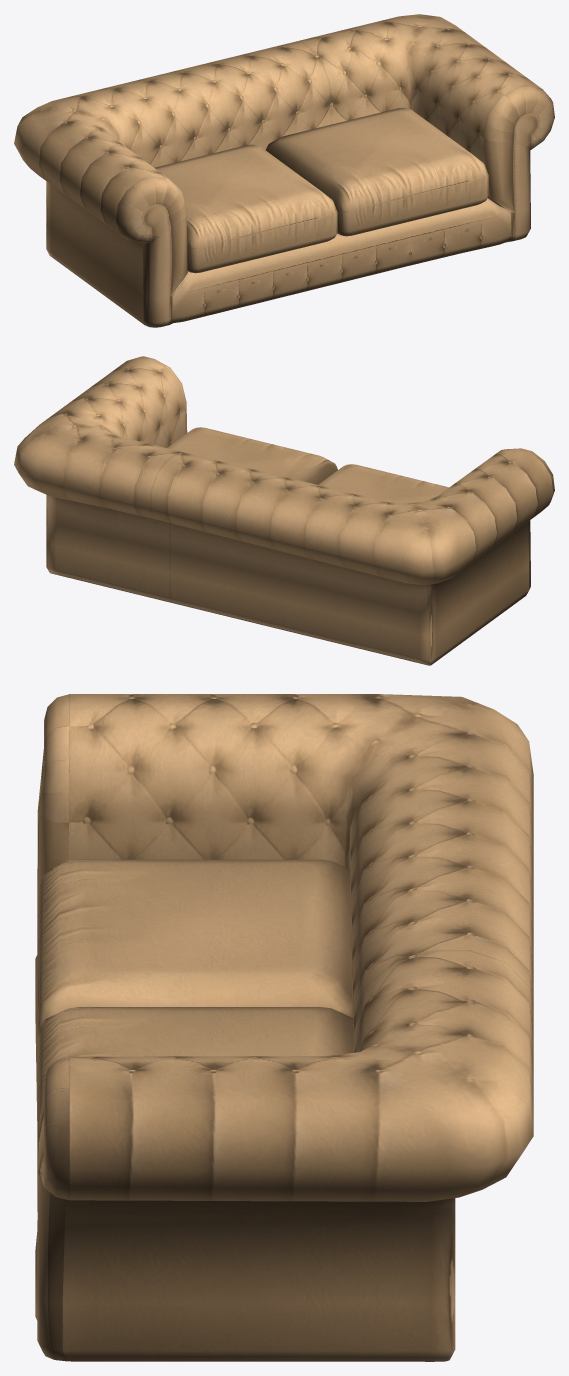
Rendered from Two_Seater_Sofa_03.fbx.
3 views of the same model, one above another, from view 1: azimuth 30°, elevation 25°; view 2: azimuth 150°, elevation 25°; view 3: azimuth 270°, elevation 25° (orthographic). The views are drawn at different scales.
Visible parts, largest first — view 1: Sofa.004; view 2: Sofa.004; view 3: Sofa.004.
Part boxes in pixels (x1,y1,x2,y2): Sofa.004: [14, 14, 554, 327]; Sofa.004: [14, 356, 554, 665]; Sofa.004: [35, 694, 533, 1361].
Bounding box in the file's own units: 223 × 72.3 × 110.
1 material, 1 textured.
